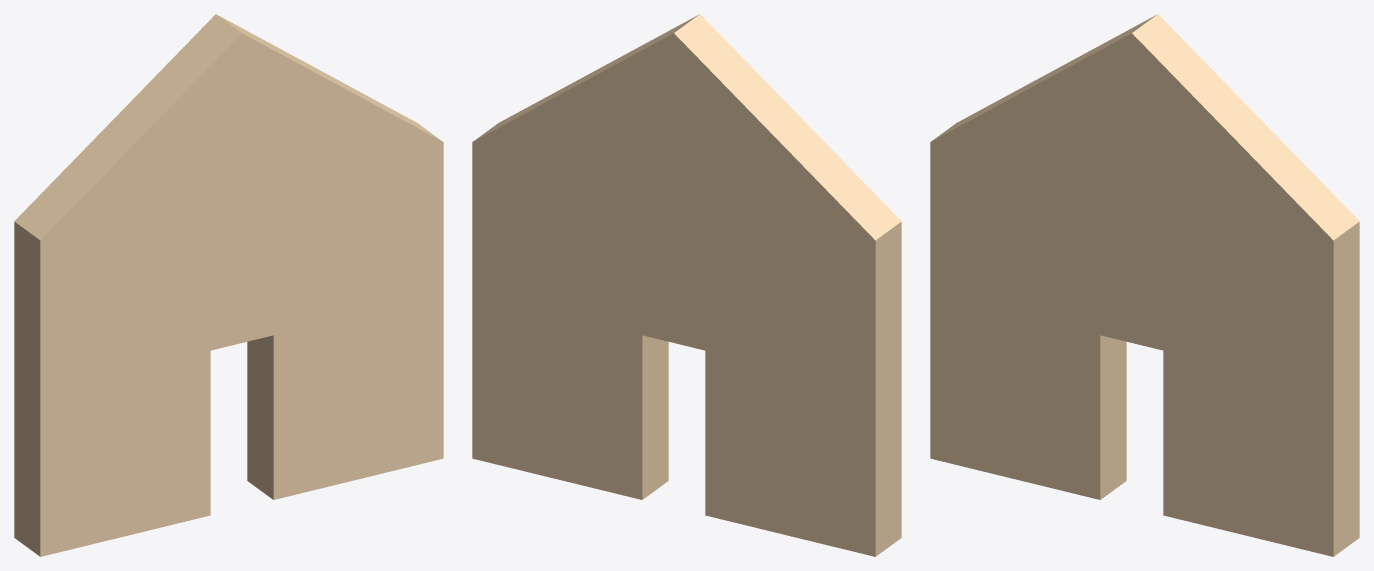
File: home-icon.glb
3 views of the same model, side by side, from view 1: azimuth 30°, elevation 25°; view 2: azimuth 150°, elevation 25°; view 3: azimuth 330°, elevation 25° (orthographic).
Visible parts, largest first — view 1: Curve; view 2: Curve; view 3: Curve.
Boxes of the visible parts, x1=… form: Curve: x1=14, y1=14, x2=443, y2=556; Curve: x1=472, y1=14, x2=901, y2=556; Curve: x1=930, y1=14, x2=1359, y2=556.
Size of the model in its own units: 0.0452 by 0.0508 by 0.00521.
